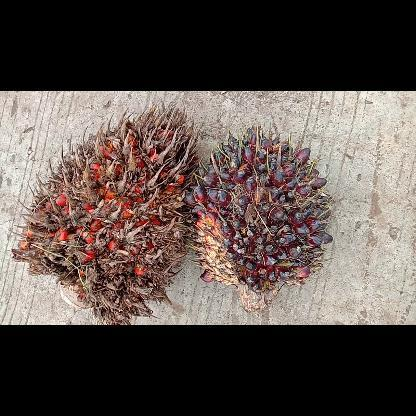TBS mentah: (184, 122, 332, 310)
Terlalu masak: (10, 98, 204, 324)
